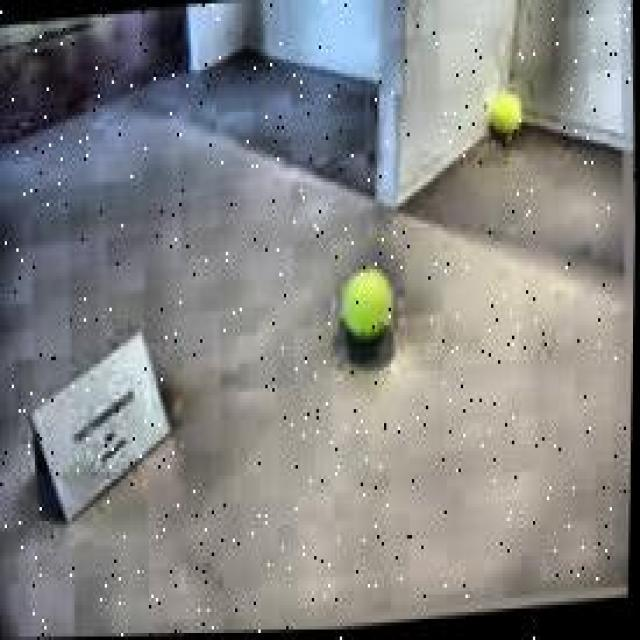tennis-ball: (336, 273, 399, 364), (482, 86, 524, 152)
